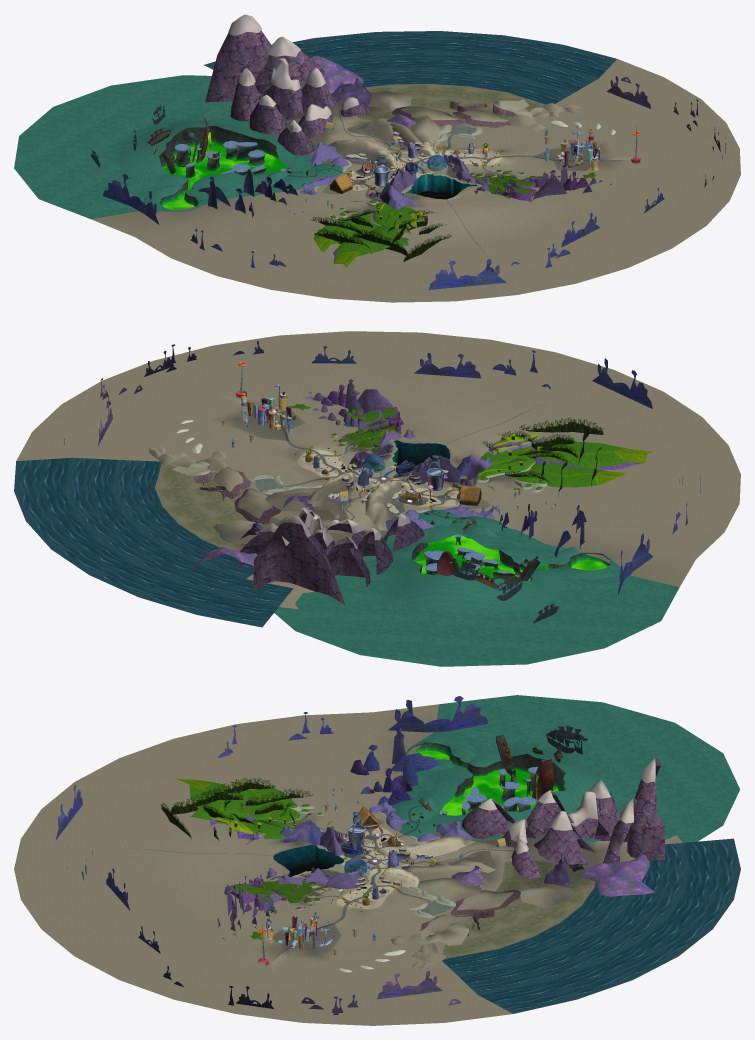
File: bikini_bottom_no_sky.glb
The picture shows the model from 3 angles, top to bottom: view 1: azimuth 30°, elevation 25°; view 2: azimuth 150°, elevation 25°; view 3: azimuth 270°, elevation 25°; orthographic projection. The views are drawn at different scales.
Visible parts, largest first — view 1: ground_day3, mesh_dutch_ground, lagoon_water, rock_sand_mtn_purple, light_purple_rock, purple_rock1, sand_jfflds_wet, sand_mountain_top, mesh_grass, main_sand, kf_lodtextures_fringes, mesh_gy_lodtextures (+11 smaller); view 2: ground_day3, mesh_dutch_ground, lagoon_water, rock_sand_mtn_purple, light_purple_rock, sand_jfflds_wet, purple_rock1, mesh_grass, main_sand, kf_lodtextures_fringes, mesh_gy_lodtextures, gy_lava_green (+10 smaller); view 3: ground_day3, mesh_dutch_ground, lagoon_water, rock_sand_mtn_purple, light_purple_rock, sand_jfflds_wet, purple_rock1, main_sand, mesh_grass, kf_lodtextures_fringes, sand_mountain_top, mesh_gy_lodtextures (+10 smaller).
Boxes of the visible parts, box(x1,y1,x2,y2) form: ground_day3: box(91, 59, 740, 302); mesh_dutch_ground: box(14, 75, 316, 219); lagoon_water: box(204, 31, 616, 104); rock_sand_mtn_purple: box(205, 30, 370, 155); light_purple_rock: box(103, 55, 725, 289); purple_rock1: box(198, 144, 596, 213); sand_jfflds_wet: box(334, 84, 545, 177); sand_mountain_top: box(228, 14, 358, 132); mesh_grass: box(314, 200, 415, 256); main_sand: box(328, 139, 501, 190); kf_lodtextures_fringes: box(310, 201, 451, 261); mesh_gy_lodtextures: box(90, 105, 317, 174); ground_day3: box(16, 331, 740, 609); mesh_dutch_ground: box(274, 525, 679, 666); lagoon_water: box(14, 423, 351, 627); rock_sand_mtn_purple: box(237, 512, 428, 606); light_purple_rock: box(63, 341, 700, 595); sand_jfflds_wet: box(155, 441, 356, 551); purple_rock1: box(313, 382, 584, 557); mesh_grass: box(477, 437, 627, 489); main_sand: box(297, 449, 461, 531); kf_lodtextures_fringes: box(481, 417, 603, 496); mesh_gy_lodtextures: box(437, 516, 558, 623); gy_lava_green: box(414, 527, 607, 581); ground_day3: box(14, 704, 682, 1025); mesh_dutch_ground: box(405, 695, 739, 843); lagoon_water: box(269, 838, 740, 1013); rock_sand_mtn_purple: box(462, 765, 664, 879); light_purple_rock: box(55, 696, 654, 1014); sand_jfflds_wet: box(302, 860, 595, 958); purple_rock1: box(225, 732, 441, 932); main_sand: box(337, 827, 475, 909); mesh_grass: box(189, 782, 321, 839); kf_lodtextures_fringes: box(160, 777, 332, 844); sand_mountain_top: box(478, 757, 660, 854); mesh_gy_lodtextures: box(418, 725, 587, 822).
Bounding box in the file's own units: 7.7 × 1.2 × 7.14.
129 materials, 127 textured.
